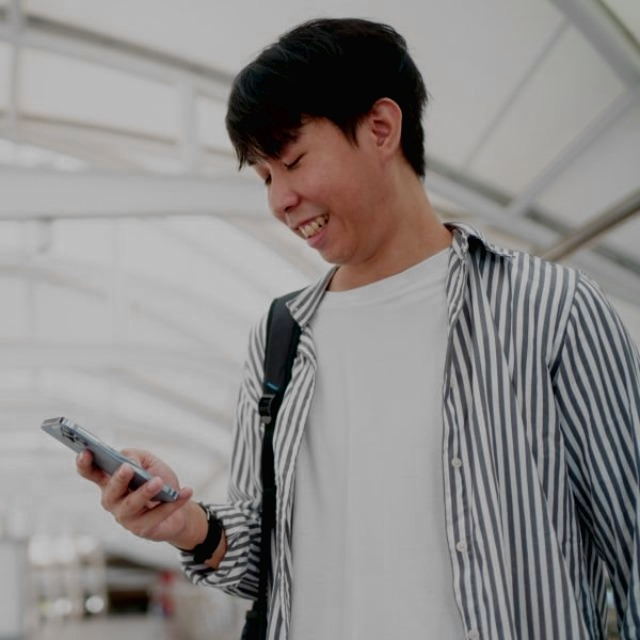Sin_Casco_Mascarrilla: (224, 20, 431, 261)
Sin_Chaleco: (245, 251, 603, 640)
